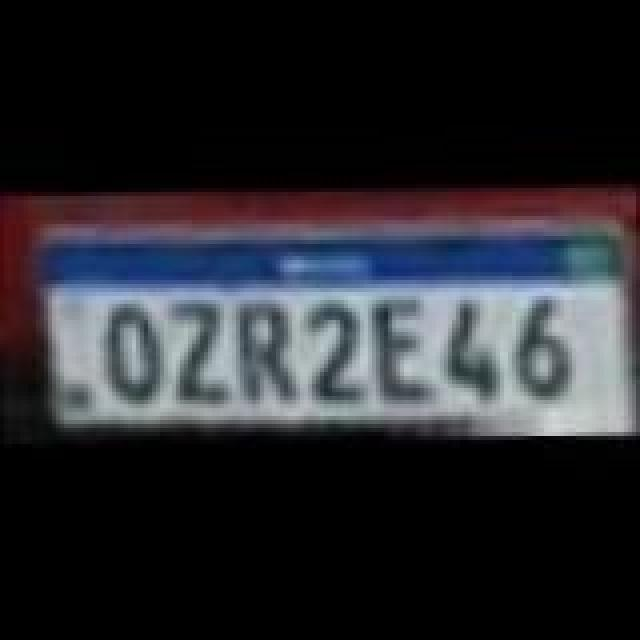2: (302, 304, 370, 408)
4: (440, 296, 504, 408)
6: (512, 296, 576, 404)
E: (366, 294, 434, 398)
O: (102, 304, 170, 404)
R: (234, 296, 294, 400)
Z: (170, 304, 230, 400)
